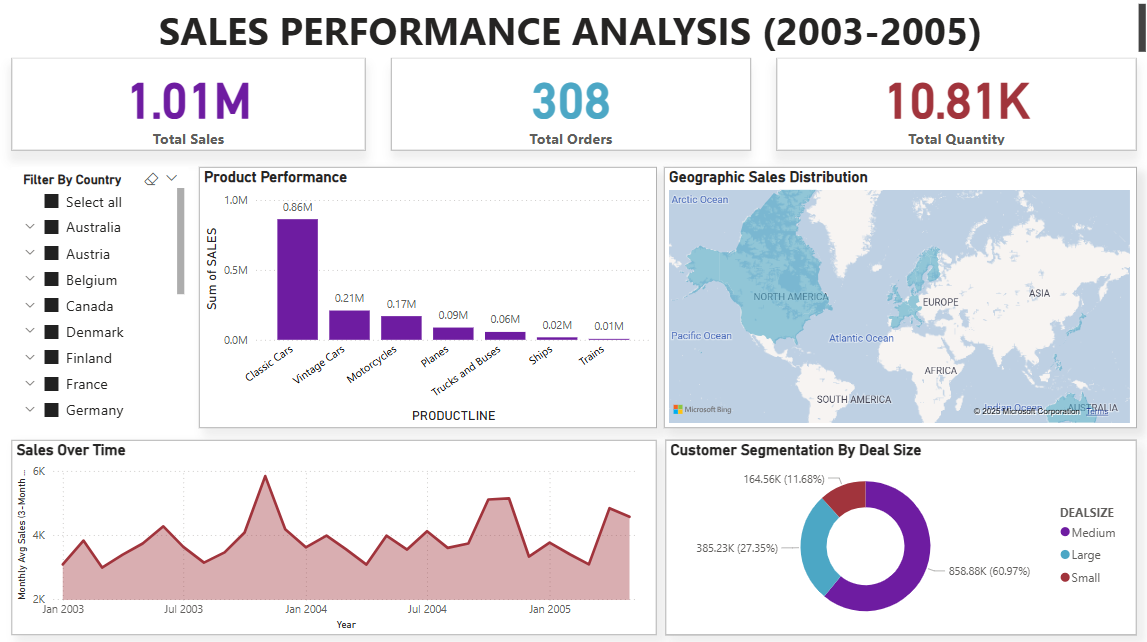

This screenshot's page, from the dashboard's own definition file:
{"tool":"powerbi","page":{"name":"Page 1","canvas":[1280,720],"ordinal":0},"visuals":[{"type":"card","fields":{"Values":["sales_data_copy.Total Sales"]},"box":[15,65,393.3,103.3],"z":0},{"type":"card","fields":{"Values":["sales_data_copy.Total Quantity"]},"box":[865,65,400,103.3],"z":1},{"type":"card","fields":{"Values":["sales_data_copy.Total Orders"]},"box":[436.7,65,400,103.3],"z":2},{"type":"columnChart","title":"Product Performance","fields":{"Category":["sales_data_copy.PRODUCTLINE"],"Y":["Sum(sales_data_copy.SALES)"]},"box":[223.3,186.7,508.3,290],"z":3},{"type":"filledMap","title":"Geographic Sales Distribution","fields":{"Category":["sales_data_copy.COUNTRY","sales_data_copy.SALES","sales_data_copy.CITY"]},"box":[740,186.7,525,290],"z":4},{"type":"slicer","fields":{"Values":["sales_data_copy.COUNTRY","sales_data_copy.CITY"]},"box":[15,186.7,196.7,290],"z":5},{"type":"areaChart","title":"Sales Over Time","fields":{"Category":["sales_data_copy.MONTH-YEAR.Variation.Date Hierarchy.Year","sales_data_copy.MONTH-YEAR.Variation.Date Hierarchy.Month"],"Y":["sales_data_copy.Sales 3-Month Rolling Avg"]},"box":[15,490,716.7,216.7],"z":6},{"type":"donutChart","title":"Customer Segmentation By Deal Size","fields":{"Y":["Sum(sales_data_copy.SALES)"],"Category":["sales_data_copy.DEALSIZE"]},"box":[741.7,490,523.3,216.7],"z":7},{"type":"textbox","box":[0,0,1280,65],"z":8}]}

Visuals, with their boxes in screenshot pixels (x1, y1, x2, y2), scaled from the page's 1280x720 canvas onto the 1147x642 screenshot:
card - sales_data_copy.Total Sales: region(13, 58, 366, 150)
card - sales_data_copy.Total Quantity: region(775, 58, 1134, 150)
card - sales_data_copy.Total Orders: region(391, 58, 750, 150)
"Product Performance" columnChart: region(200, 166, 656, 425)
"Geographic Sales Distribution" filledMap: region(663, 166, 1134, 425)
slicer - sales_data_copy.COUNTRY x sales_data_copy.CITY: region(13, 166, 190, 425)
"Sales Over Time" areaChart: region(13, 437, 656, 630)
"Customer Segmentation By Deal Size" donutChart: region(665, 437, 1134, 630)
textbox: region(0, 0, 1146, 58)
